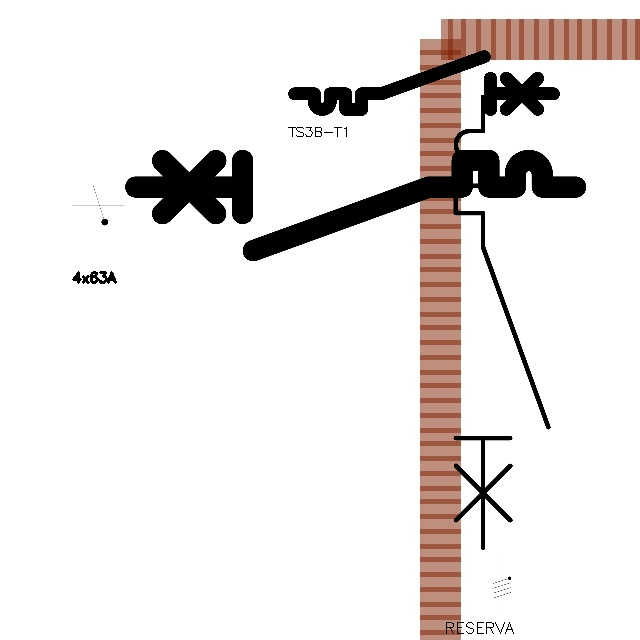interruptor_termomagnetico: (444, 85, 560, 559), (124, 149, 587, 262), (288, 50, 560, 116)
